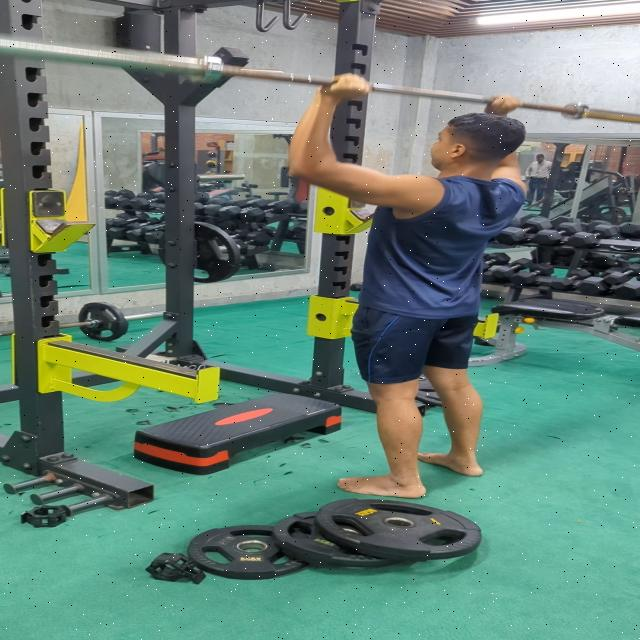Normal_OverheadPress: (243, 78, 542, 500)
